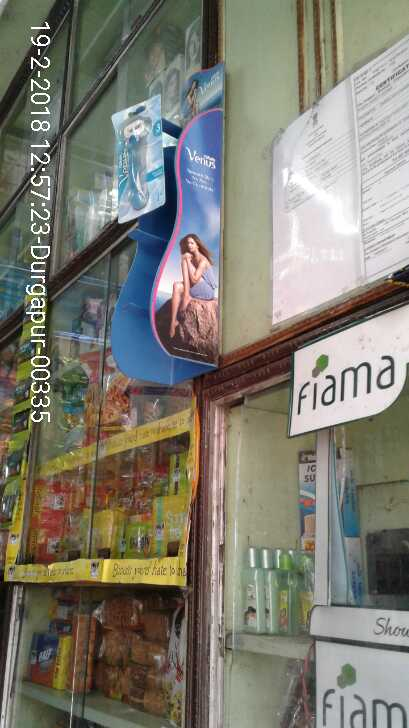venus: (105, 99, 170, 228)
